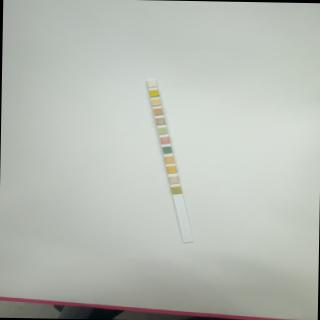mark: (168, 175, 178, 183), (160, 136, 170, 144), (158, 126, 168, 134), (171, 186, 181, 193), (166, 165, 176, 172), (154, 108, 164, 115), (165, 156, 174, 163), (162, 146, 171, 153), (148, 90, 158, 96), (152, 98, 160, 105), (148, 81, 157, 87), (156, 118, 164, 124)
